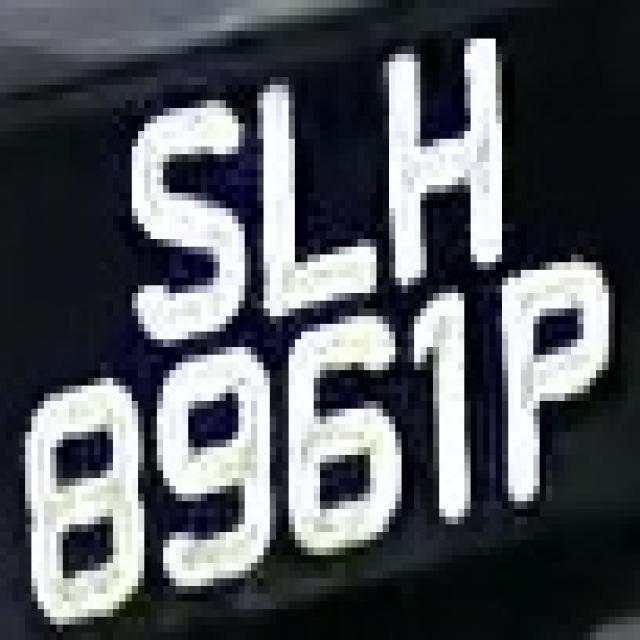1: (414, 278, 496, 540)
6: (263, 278, 408, 555)
8: (24, 372, 147, 629), (0, 4, 2, 8)
9: (132, 324, 295, 594)
H: (364, 31, 521, 277)
L: (238, 46, 383, 324)
P: (483, 232, 628, 524)
S: (94, 62, 257, 354)
